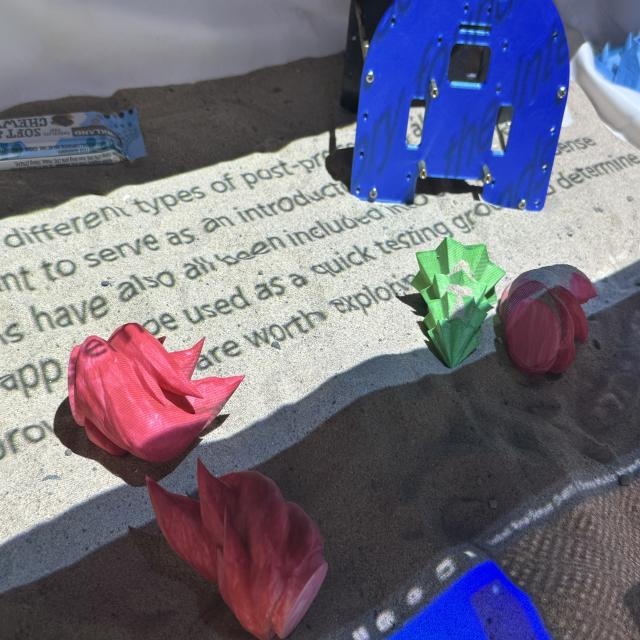fire: (144, 456, 328, 639), (66, 322, 246, 462), (496, 264, 598, 379)
tree: (410, 235, 506, 369)
